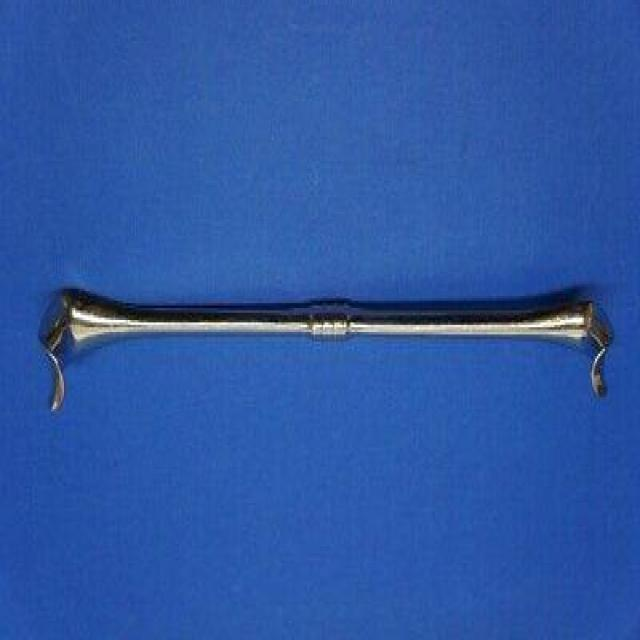Richardson: (37, 279, 618, 431)
